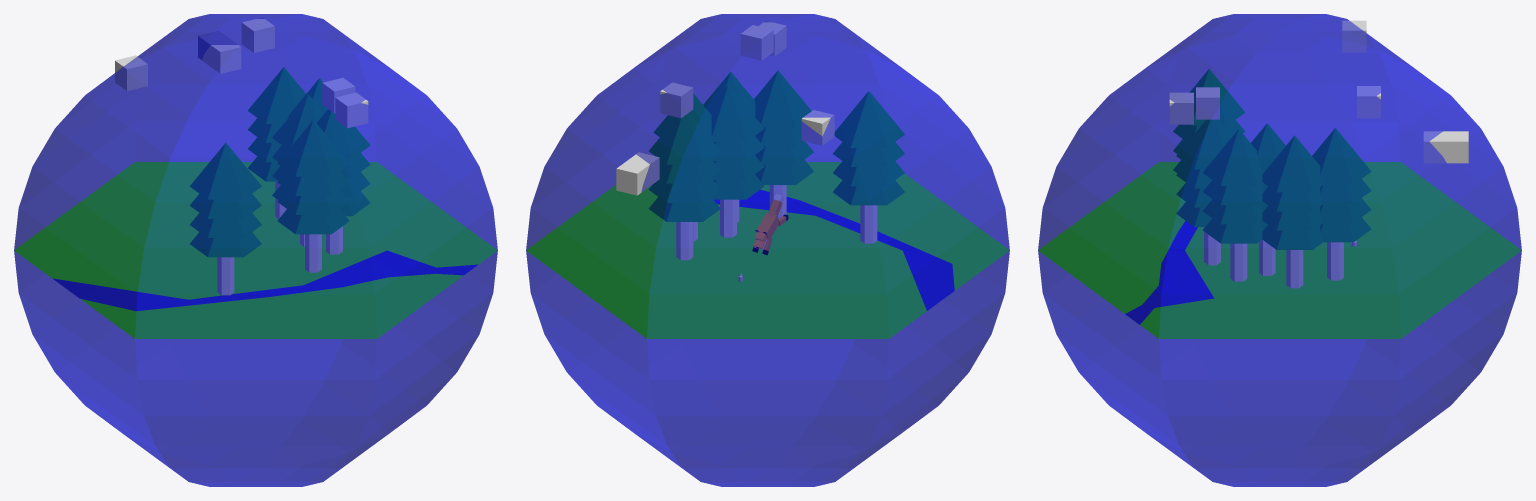
Rendered from blenderScene_a-frame_version.glb.
3 renders of one model, left to right at view 1: azimuth 30°, elevation 25°; view 2: azimuth 150°, elevation 25°; view 3: azimuth 270°, elevation 25°, orthographic.
Parts seen in each view (by area): view 1: Sphere, Circle.001, Cylinder.005, Cylinder.004, Circle, Cylinder.002, Cylinder, Cylinder.003, Cube.004, Cube.002, Cube.003, Cube.001 (+1 smaller); view 2: Sphere, Circle.001, Cylinder.005, Cylinder.002, Cylinder.004, Cylinder.003, Circle, Cube.003, Cube.002, Cube.005, Cube, Cube.008 (+3 smaller); view 3: Sphere, Circle.001, Cylinder.001, Cylinder, Cylinder.002, Cylinder.004, Circle, Cylinder.005, Cylinder.003, Cube.003, Cube.004, Cube (+3 smaller).
Part boxes in pixels (<box>): Sphere: <box>14,14,497,486</box>; Circle.001: <box>14,162,497,338</box>; Cylinder.005: <box>190,143,261,295</box>; Cylinder.004: <box>277,120,349,272</box>; Circle: <box>54,251,477,310</box>; Cylinder.002: <box>248,67,305,218</box>; Cylinder: <box>317,109,370,254</box>; Cylinder.003: <box>272,94,323,246</box>; Cube.004: <box>335,92,368,127</box>; Cube.002: <box>241,17,274,52</box>; Cube.003: <box>115,55,147,90</box>; Cube.001: <box>210,40,241,73</box>; Sphere: <box>526,14,1009,486</box>; Circle.001: <box>526,162,1009,338</box>; Cylinder.005: <box>833,91,904,243</box>; Cylinder.002: <box>649,113,720,260</box>; Cylinder.004: <box>754,70,813,218</box>; Cylinder.003: <box>707,85,764,237</box>; Circle: <box>714,190,954,310</box>; Cube.003: <box>801,110,834,145</box>; Cube.002: <box>660,82,693,117</box>; Cube.005: <box>740,25,773,60</box>; Cube: <box>616,160,649,195</box>; Cube.008: <box>752,194,788,254</box>; Sphere: <box>1038,14,1521,486</box>; Circle.001: <box>1038,162,1521,338</box>; Cylinder.001: <box>1262,135,1322,288</box>; Cylinder: <box>1203,129,1262,281</box>; Cylinder.002: <box>1312,128,1371,280</box>; Cylinder.004: <box>1176,119,1232,265</box>; Circle: <box>1125,221,1213,324</box>; Cylinder.005: <box>1173,69,1244,173</box>; Cylinder.003: <box>1251,123,1285,275</box>; Cube.003: <box>1342,20,1366,52</box>; Cube.004: <box>1169,92,1193,124</box>; Cube: <box>1444,131,1468,163</box>.
Size of the model in its own units: 34.64 by 40 by 40.
